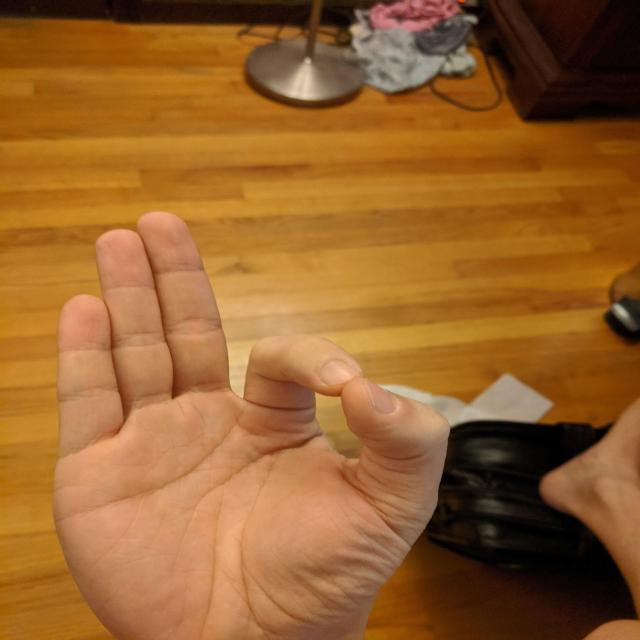F: (45, 205, 456, 640)
